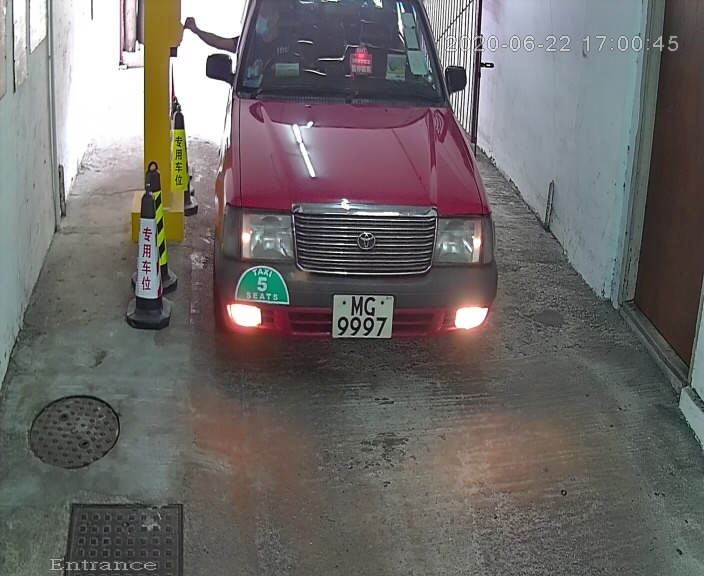taxi: (191, 2, 523, 370)
taxi_mark: (228, 263, 305, 310)
